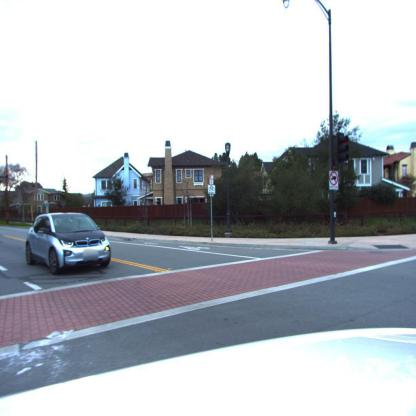car: (25, 213, 113, 275)
traffic light: (337, 135, 349, 164)
